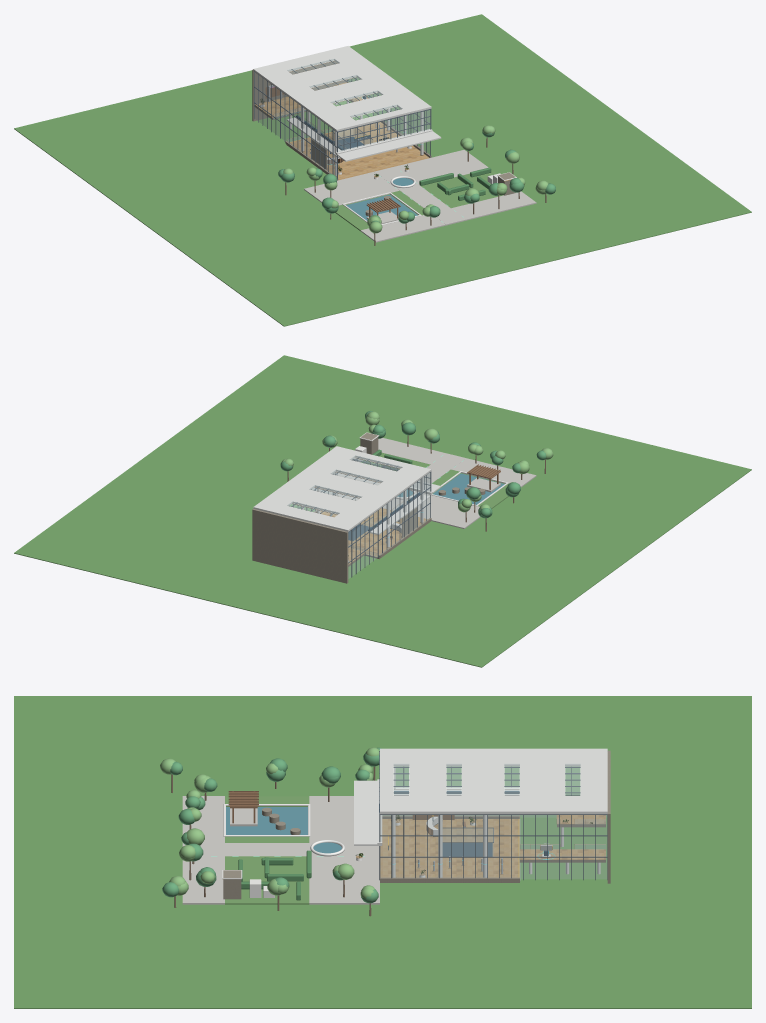
Rendered from world.glb.
The picture shows the model from 3 angles, top to bottom: view 1: azimuth 30°, elevation 25°; view 2: azimuth 150°, elevation 25°; view 3: azimuth 270°, elevation 25°; orthographic projection. The views are drawn at different scales.
Visible parts, largest first — view 1: RT_RT_lawn, LM_plaster, LM_paving, GL_G_glass, LM_marble, LM_alu, LM_concrete, LM_white, LM_grass, RT_RT_leaf2, RT_RT_leaf, LM_hedge (+2 smaller); view 2: RT_RT_lawn, LM_plaster, LM_concrete, GL_G_glass, LM_paving, LM_alu, RT_RT_leaf, LM_white, LM_marble, RT_RT_leaf2, RT_RT_water, LM_grass (+1 smaller); view 3: RT_RT_lawn, LM_plaster, GL_G_glass, LM_paving, LM_marble, LM_grass, LM_alu, LM_concrete, LM_white, RT_RT_leaf, RT_RT_leaf2, RT_RT_water (+3 smaller).
Boxes of the visible parts, <box> form: RT_RT_lawn: <box>14,14,751,326</box>; LM_plaster: <box>253,46,441,161</box>; LM_paving: <box>304,149,536,242</box>; GL_G_glass: <box>254,58,430,176</box>; LM_marble: <box>255,82,429,180</box>; LM_alu: <box>254,59,431,180</box>; LM_concrete: <box>252,61,515,216</box>; LM_white: <box>260,96,516,225</box>; LM_grass: <box>335,170,503,230</box>; RT_RT_leaf2: <box>283,125,548,233</box>; RT_RT_leaf: <box>278,130,555,223</box>; LM_hedge: <box>419,167,491,200</box>; RT_RT_lawn: <box>14,355,751,667</box>; LM_plaster: <box>253,446,441,531</box>; LM_concrete: <box>252,433,485,583</box>; GL_G_glass: <box>287,455,430,578</box>; LM_paving: <box>312,437,536,528</box>; LM_alu: <box>289,456,431,577</box>; RT_RT_leaf: <box>280,411,546,518</box>; LM_white: <box>301,432,508,561</box>; LM_marble: <box>320,508,427,564</box>; RT_RT_leaf2: <box>282,411,553,512</box>; RT_RT_water: <box>397,473,504,504</box>; LM_grass: <box>361,453,520,508</box>; RT_RT_lawn: <box>14,696,751,1008</box>; LM_plaster: <box>354,748,607,845</box>; GL_G_glass: <box>380,764,607,878</box>; LM_paving: <box>182,796,379,904</box>; LM_marble: <box>380,815,605,877</box>; LM_grass: <box>225,796,309,904</box>; LM_alu: <box>379,751,607,880</box>; LM_concrete: <box>223,750,610,899</box>; LM_white: <box>222,766,600,897</box>; RT_RT_leaf: <box>162,747,381,903</box>; RT_RT_leaf2: <box>160,747,379,898</box>; RT_RT_water: <box>226,807,341,853</box>.
Bounding box in the file's own units: 140 × 24.57 × 140.
Materials: 31 (7 with a texture image).
